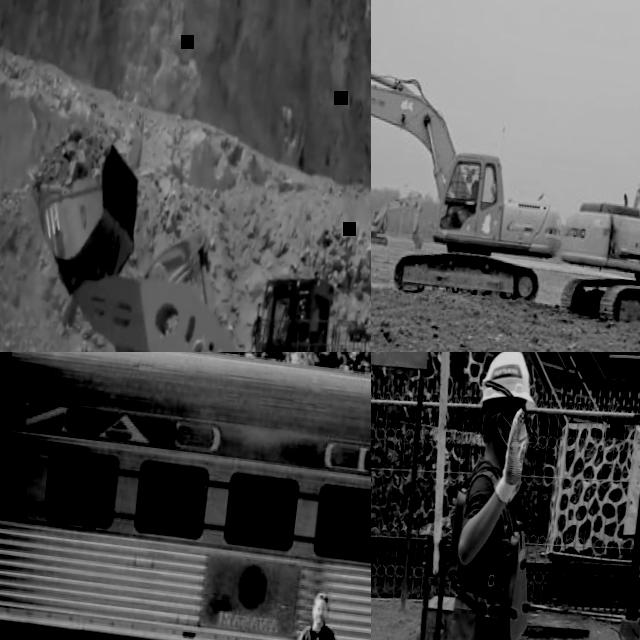Hardhat: (479, 352, 543, 414)
Mask: (496, 415, 533, 455)
NO-Hardhat: (312, 590, 328, 603)
NO-Mask: (313, 614, 325, 625)
NO-Safety Vest: (293, 625, 336, 640)
Person: (397, 352, 554, 640), (275, 587, 345, 640), (465, 179, 478, 203)
Safety Vest: (434, 483, 546, 640)
vehicle: (0, 121, 371, 352), (371, 33, 581, 310), (553, 53, 640, 352), (371, 186, 427, 251)
